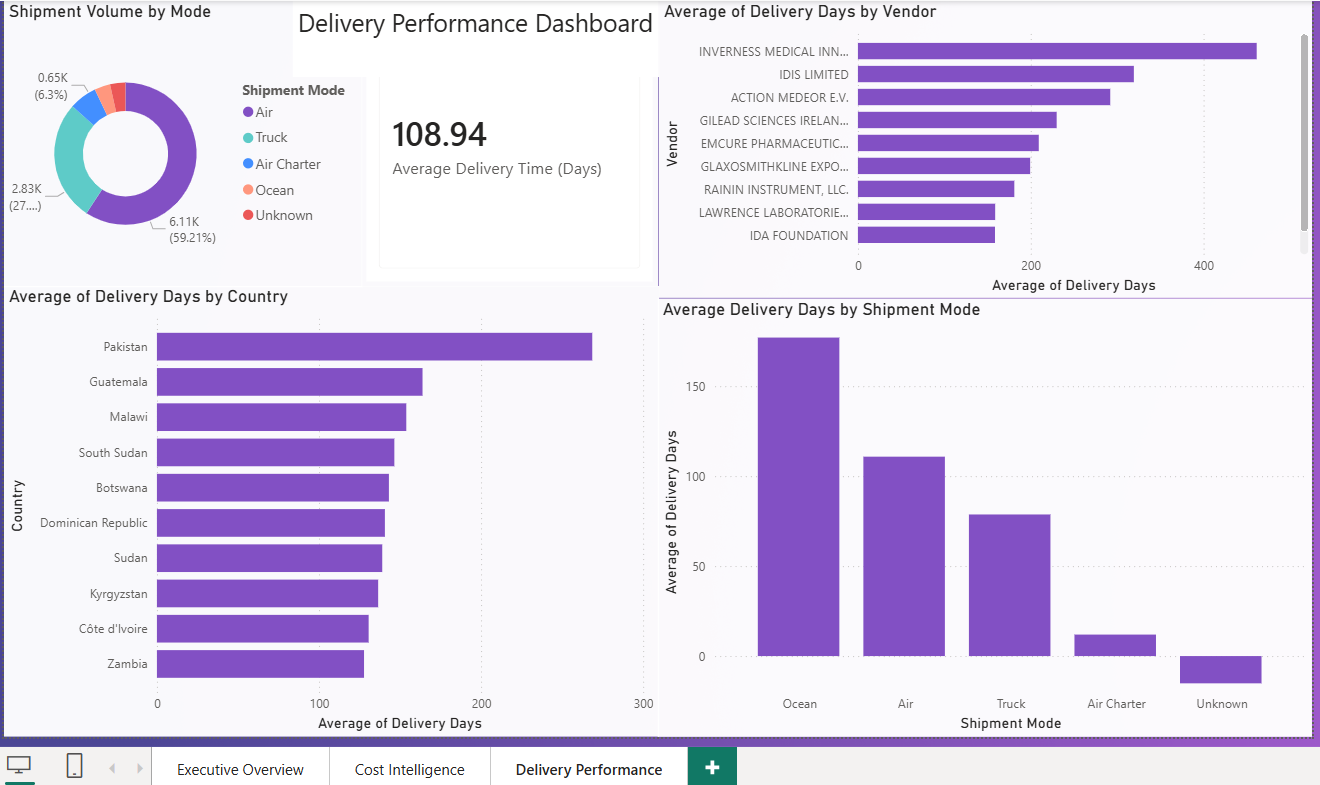

Layout of this report page (visuals, bound fields, positions):
{"tool":"powerbi","page":{"name":"Delivery Performance ","canvas":[1280,720],"ordinal":2},"visuals":[{"type":"cardVisual","fields":{"Data":["Avg(cleaned_shipments.Delivery Days)"]},"box":[349.8,0,290.7,279.4],"z":0},{"type":"clusteredBarChart","fields":{"Category":["cleaned_shipments.Country"],"Y":["Avg(cleaned_shipments.Delivery Days)"]},"box":[0,279.4,640.5,440.6],"z":1000},{"type":"clusteredBarChart","fields":{"Category":["cleaned_shipments.Vendor"],"Y":["Avg(cleaned_shipments.Delivery Days)"]},"box":[640.5,0,640.5,290.7],"z":2000},{"type":"clusteredColumnChart","title":"Average Delivery Days by Shipment Mode","fields":{"Category":["cleaned_shipments.Shipment Mode"],"Y":["Avg(cleaned_shipments.Delivery Days)"]},"box":[640,291,640,429],"z":3000},{"type":"donutChart","title":"Shipment Volume by Mode","fields":{"Category":["cleaned_shipments.Shipment Mode"],"Y":["CountNonNull(cleaned_shipments.ID)"]},"box":[0,0,350,280],"z":3001},{"type":"textbox","box":[282,0,358,74],"z":3002}]}

Visuals, with their boxes on the page's 1280x720 design canvas (x1, y1, x2, y2). These are canvas units, not pixel positions in the 1320x785 screenshot, which may show the page scaled, cropped or inside an application window:
cardVisual - Avg(cleaned_shipments.Delivery Days): 350/0/640/279
clusteredBarChart - cleaned_shipments.Country x Avg(cleaned_shipments.Delivery Days): 0/279/640/720
clusteredBarChart - cleaned_shipments.Vendor x Avg(cleaned_shipments.Delivery Days): 640/0/1281/291
"Average Delivery Days by Shipment Mode" clusteredColumnChart: 640/291/1280/720
"Shipment Volume by Mode" donutChart: 0/0/350/280
textbox: 282/0/640/74
